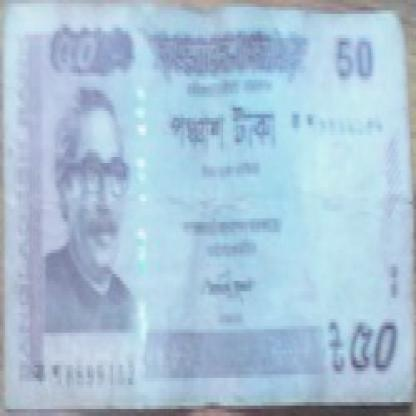Fifty taka: (341, 319, 401, 381), (48, 24, 103, 83)
